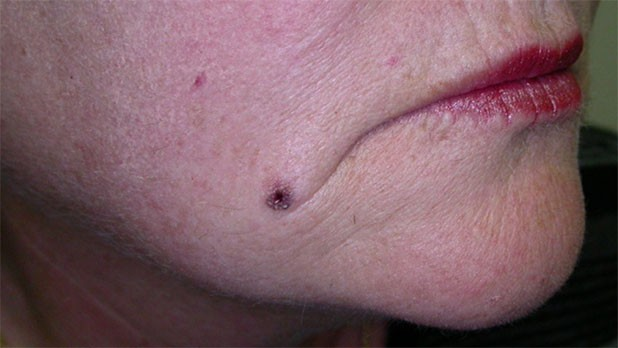melanoma: (199, 128, 359, 251)
